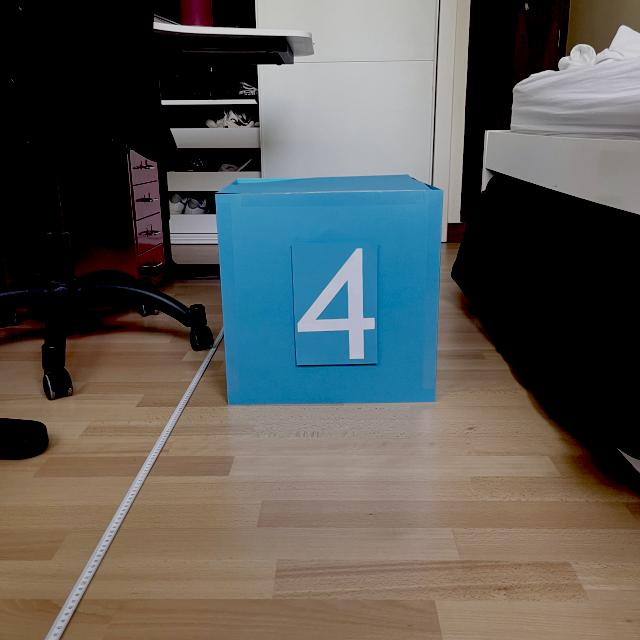box: (210, 170, 446, 407)
